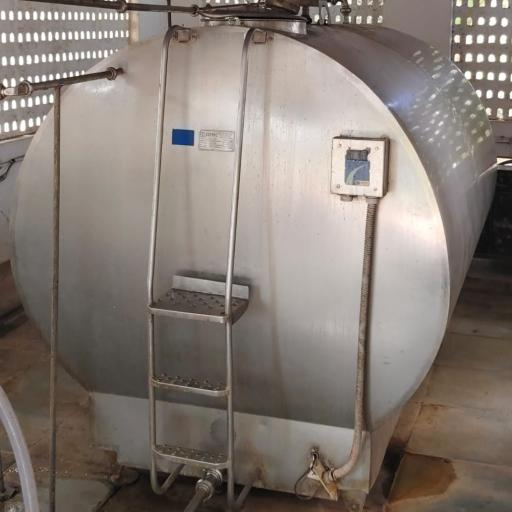silo: (14, 1, 494, 504)
